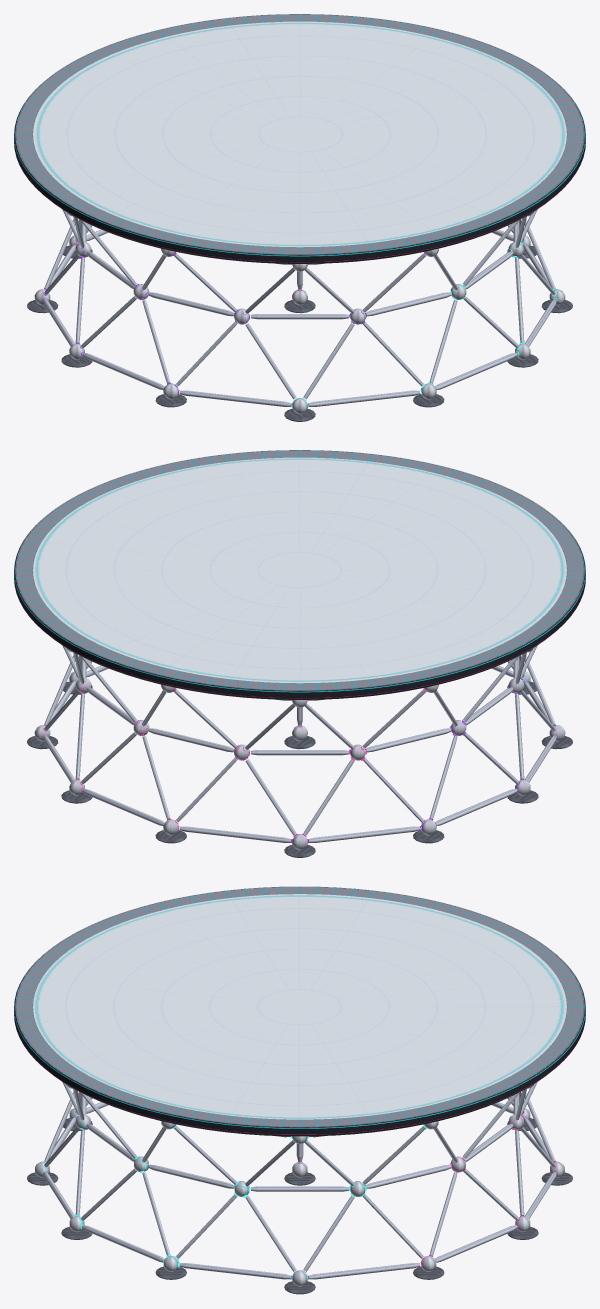
File: cyber-stage-v2.glb
3 renders of one model, top to bottom at view 1: azimuth 30°, elevation 25°; view 2: azimuth 150°, elevation 25°; view 3: azimuth 270°, elevation 25°, orthographic.
Visible parts, largest first — view 1: Mirror_Floor, Deck_Rim, Truss_Diagonals_Lower, Truss_Chord_Bottom, Joint_Hubs, Truss_Diagonals_Upper, Truss_Chord_Mid, Foot_Plates; view 2: Mirror_Floor, Deck_Rim, Truss_Diagonals_Lower, Truss_Chord_Bottom, Joint_Hubs, Truss_Diagonals_Upper, Truss_Chord_Mid, Foot_Plates; view 3: Mirror_Floor, Deck_Rim, Truss_Diagonals_Lower, Truss_Chord_Bottom, Joint_Hubs, Truss_Diagonals_Upper, Truss_Chord_Mid, Foot_Plates.
Boxes of the visible parts, x1,y1,x2,y2 form: Mirror_Floor: (33, 21, 566, 247); Deck_Rim: (14, 14, 585, 263); Truss_Diagonals_Lower: (44, 218, 555, 399); Truss_Chord_Bottom: (43, 229, 556, 406); Joint_Hubs: (34, 212, 565, 413); Truss_Diagonals_Upper: (62, 209, 537, 313); Truss_Chord_Mid: (80, 221, 519, 319); Foot_Plates: (27, 245, 572, 421); Mirror_Floor: (33, 457, 566, 683); Deck_Rim: (14, 450, 585, 699); Truss_Diagonals_Lower: (44, 654, 555, 835); Truss_Chord_Bottom: (43, 665, 556, 842); Joint_Hubs: (34, 648, 565, 849); Truss_Diagonals_Upper: (62, 645, 537, 749); Truss_Chord_Mid: (80, 657, 519, 755); Foot_Plates: (27, 681, 572, 857); Mirror_Floor: (33, 894, 566, 1119); Deck_Rim: (14, 886, 585, 1136); Truss_Diagonals_Lower: (44, 1091, 555, 1271); Truss_Chord_Bottom: (43, 1102, 556, 1279); Joint_Hubs: (35, 1084, 564, 1286); Truss_Diagonals_Upper: (62, 1082, 537, 1186); Truss_Chord_Mid: (80, 1094, 519, 1191); Foot_Plates: (27, 1118, 572, 1294).
Bounding box in the file's own units: 6 × 2 × 6.
12 materials, 12 textured.
